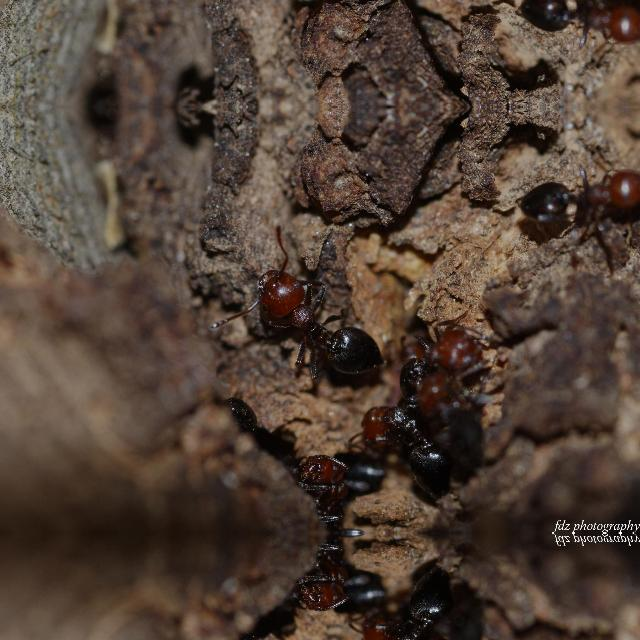Crematogaster: (248, 250, 392, 384), (520, 150, 640, 238), (412, 354, 506, 460), (356, 392, 446, 492), (520, 0, 639, 61), (280, 532, 348, 624), (280, 442, 348, 532), (355, 573, 446, 640), (400, 316, 492, 378), (411, 605, 506, 640)
